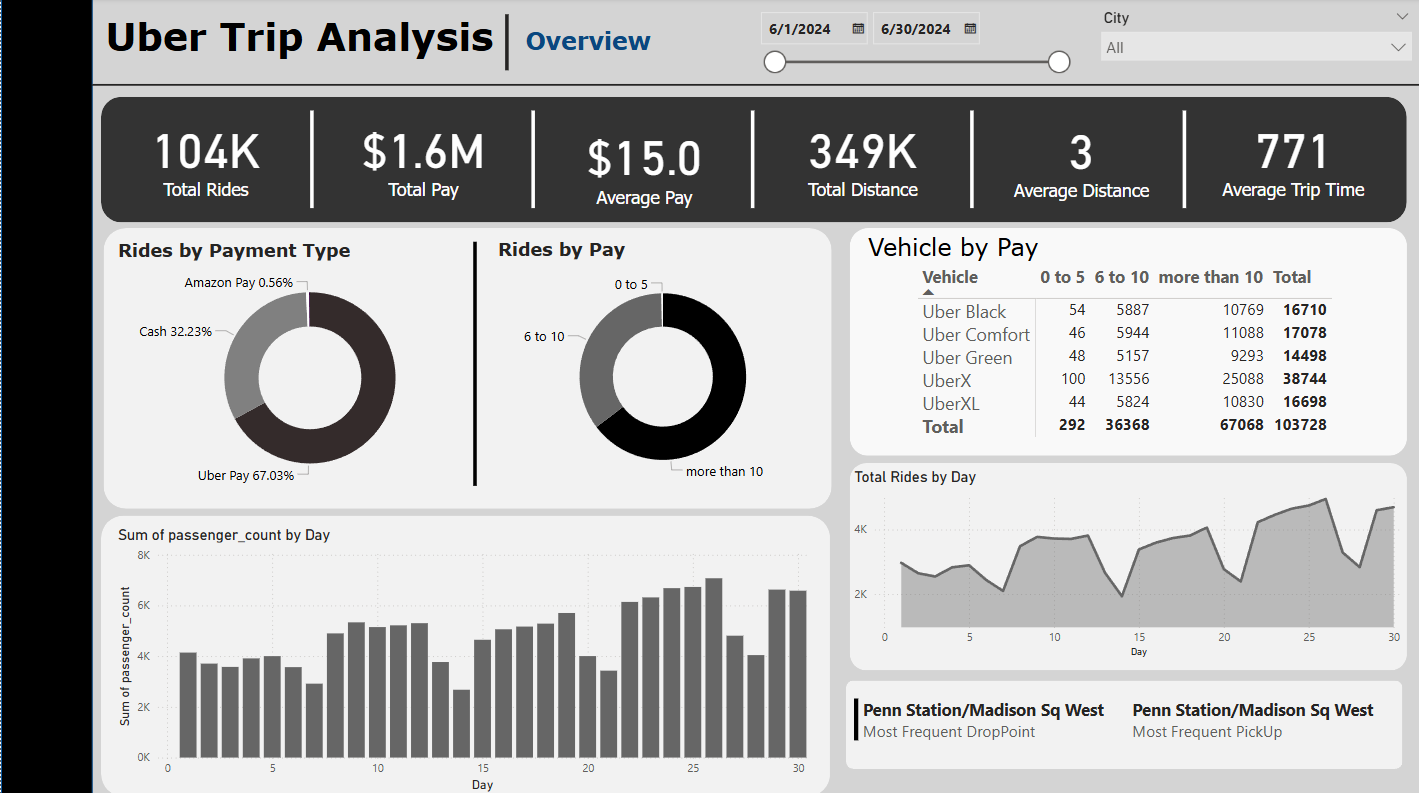

The page's visual inventory and layout, read from the dashboard file:
{"tool":"powerbi","page":{"name":"Page 1","canvas":[1600,900],"ordinal":0},"visuals":[{"type":"shape","box":[113.3,111.7,1471.7,141.7],"z":0},{"type":"shape","box":[116.2,259.9,820.8,316.4],"z":1000},{"type":"textbox","box":[113.3,11.7,475,75],"z":2000},{"type":"shape","box":[0,0,103.3,900],"z":3000},{"type":"shape","box":[103.3,66.7,1496.7,63.3],"z":4000},{"type":"shape","box":[505,18.3,131.7,63.3],"z":5000},{"type":"textbox","box":[586.7,26.7,213.3,60],"z":6000},{"type":"card","fields":{"Values":["_Measures (2).Total Rides"]},"box":[113.3,108.5,236.7,138.3],"z":7000},{"type":"card","fields":{"Values":["Sum(Trip Details.Total Pay)"]},"box":[351.7,108.5,248.3,138.3],"z":8000},{"type":"card","fields":{"Values":["Sum(Trip Details.trip_distance)"]},"box":[848.3,108.5,246.7,138.3],"z":9000},{"type":"card","fields":{"Values":["Avg(Trip Details.trip_distance)"]},"box":[1103.3,116.9,230,123.3],"z":10000},{"type":"card","fields":{"Values":["Avg(Trip Details.Trip Time)"]},"box":[1328.3,108.5,256.7,138.3],"z":11000},{"type":"shape","box":[285,126.7,131.7,110],"z":12000},{"type":"shape","box":[533.3,126.7,131.7,110],"z":13000},{"type":"shape","box":[780,126.7,133.3,110],"z":14000},{"type":"shape","box":[1028.3,126.7,131.7,110],"z":15000},{"type":"shape","box":[1268.3,126.7,131.7,110],"z":16000},{"type":"donutChart","title":"Rides by Payment Type","fields":{"Y":["_Measures (2).Total Rides"],"Category":["Trip Details.Payment_type"]},"box":[126.9,272.1,443.3,288.9],"z":17000},{"type":"donutChart","title":"Rides by Pay","fields":{"Y":["_Measures (2).Total Rides"],"Category":["Trip Details.Pay Bins"]},"box":[554.9,270.6,382.1,288.9],"z":18000},{"type":"shape","box":[467.7,275.1,133,275.1],"z":19000},{"type":"slicer","fields":{"Values":["Calender.PickUp Date"]},"box":[843.8,6.1,369.9,85.6],"z":20000},{"type":"slicer","fields":{"Values":["Location Table.City"]},"box":[1230.5,7.6,369.9,85.6],"z":21000},{"type":"shape","box":[956.9,259.9,628.2,256.8],"z":22000},{"type":"pivotTable","fields":{"Rows":["Trip Details.Vehicle"],"Columns":["Trip Details.Pay Bins"],"Values":["_Measures (2).Total Rides"]},"box":[1028.7,296.5,545.7,218.6],"z":23000},{"type":"textbox","box":[972.2,259.9,394.4,74.9],"z":24000},{"type":"shape","box":[956.9,524.3,628.2,233.9],"z":25000},{"type":"areaChart","fields":{"Category":["Calender.PickUp Date.Variation.Date Hierarchy.Day"],"Y":["_Measures (2).Total Rides"]},"box":[956.9,530.4,628.2,218.6],"z":26000},{"type":"shape","box":[112.6,583.8,821.9,316.8],"z":27000},{"type":"shape","box":[952.2,768.8,627.3,99.7],"z":28000},{"type":"multiRowCard","fields":{"Values":["Trip Details.Most Frequent DropPoint","Trip Details.Most Frequent PickUp"]},"box":[957,784.9,627.3,83.6],"z":29000},{"type":"clusteredColumnChart","fields":{"Y":["Sum(Trip Details.passenger_count)"],"Category":["Calender.PickUp Date.Variation.Date Hierarchy.Day"]},"box":[127.1,595.1,786.5,305.6],"z":29001},{"type":"card","fields":{"Values":["Avg(Trip Details.Total Pay)"]},"box":[601.5,117.4,247.7,138.3],"z":29002}]}

Visuals, with their boxes in screenshot pixels (x1, y1, x2, y2), scaled from the page's 1600x900 canvas onto the 1419x793 screenshot:
shape: bbox=[100, 98, 1406, 223]
shape: bbox=[103, 229, 831, 508]
textbox: bbox=[100, 10, 522, 76]
shape: bbox=[0, 0, 92, 792]
shape: bbox=[92, 59, 1418, 115]
shape: bbox=[448, 16, 565, 72]
textbox: bbox=[520, 24, 710, 76]
card - _Measures (2).Total Rides: bbox=[100, 96, 310, 217]
card - Sum(Trip Details.Total Pay): bbox=[312, 96, 532, 217]
card - Sum(Trip Details.trip_distance): bbox=[752, 96, 971, 217]
card - Avg(Trip Details.trip_distance): bbox=[978, 103, 1182, 212]
card - Avg(Trip Details.Trip Time): bbox=[1178, 96, 1406, 217]
shape: bbox=[253, 112, 370, 209]
shape: bbox=[473, 112, 590, 209]
shape: bbox=[692, 112, 810, 209]
shape: bbox=[912, 112, 1029, 209]
shape: bbox=[1125, 112, 1242, 209]
"Rides by Payment Type" donutChart: bbox=[113, 240, 506, 494]
"Rides by Pay" donutChart: bbox=[492, 238, 831, 493]
shape: bbox=[415, 242, 533, 485]
slicer - Calender.PickUp Date: bbox=[748, 5, 1076, 81]
slicer - Location Table.City: bbox=[1091, 7, 1418, 82]
shape: bbox=[849, 229, 1406, 455]
pivotTable - Trip Details.Vehicle x Trip Details.Pay Bins: bbox=[912, 261, 1396, 454]
textbox: bbox=[862, 229, 1212, 295]
shape: bbox=[849, 462, 1406, 668]
areaChart - Calender.PickUp Date.Variation.Date Hierarchy.Day x _Measures (2).Total Rides: bbox=[849, 467, 1406, 660]
shape: bbox=[100, 514, 829, 792]
shape: bbox=[844, 677, 1401, 765]
multiRowCard - Trip Details.Most Frequent DropPoint x Trip Details.Most Frequent PickUp: bbox=[849, 692, 1405, 765]
clusteredColumnChart - Sum(Trip Details.passenger_count) x Calender.PickUp Date.Variation.Date Hierarchy.Day: bbox=[113, 524, 810, 792]
card - Avg(Trip Details.Total Pay): bbox=[533, 103, 753, 225]
